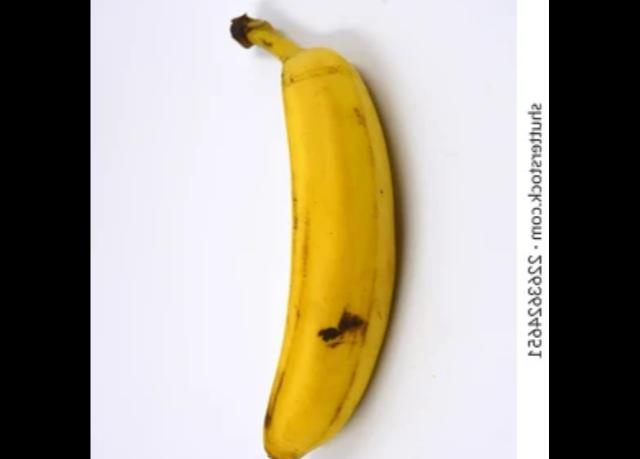Bananas: (231, 10, 398, 459)
